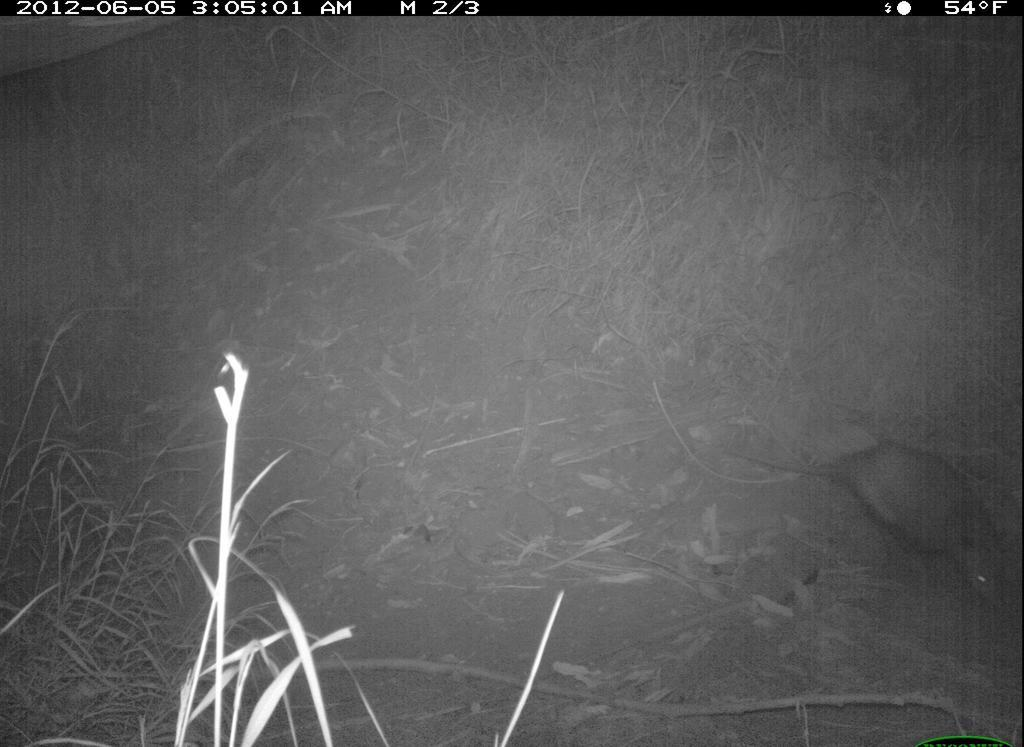opossum: (725, 423, 1014, 611)
